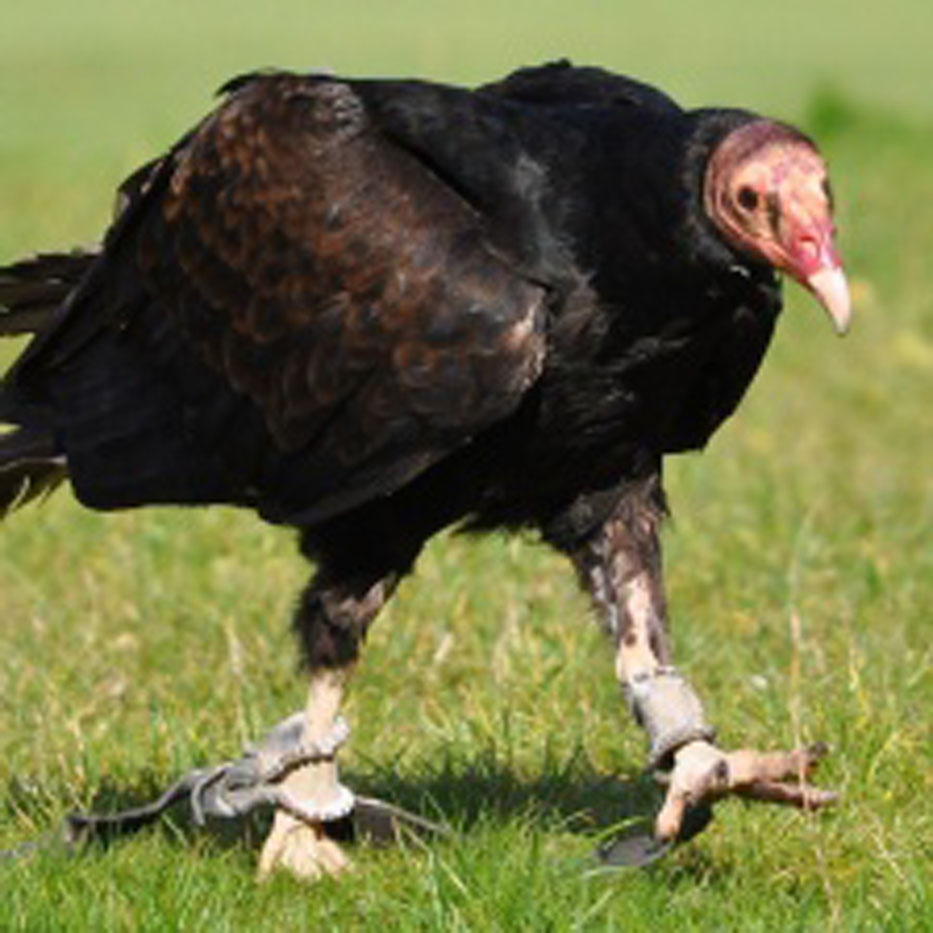Pengoyak Daging: (797, 267, 869, 359)
